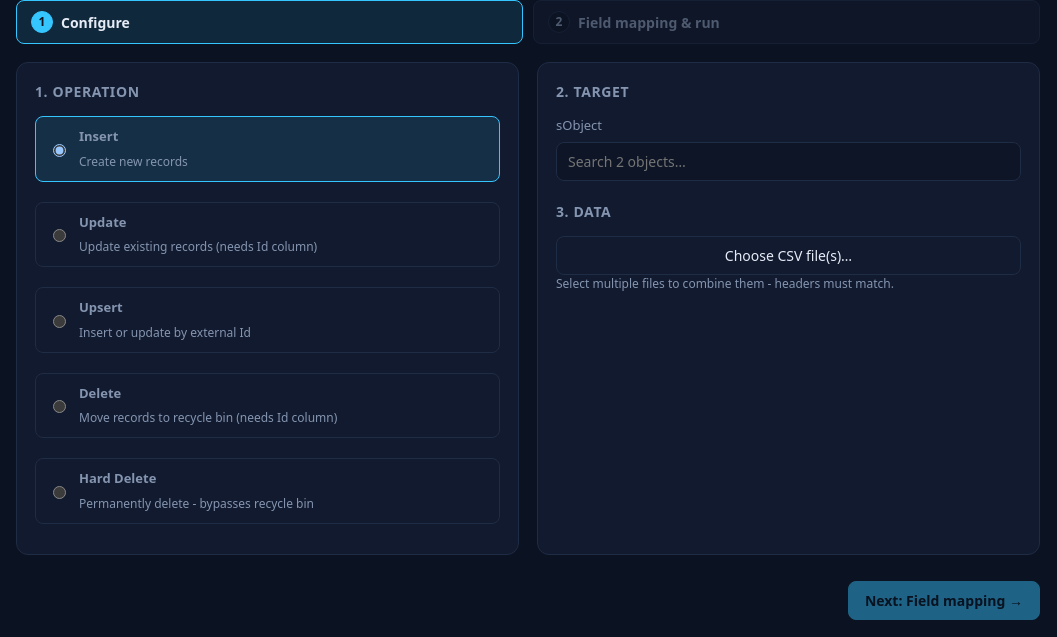
LoadPanel render › shows row/column counts after a file is chosen
Check: the field with placeholder "Search 2 objects…" is shown, box [556, 142, 1021, 180]
Click the button "Choose CSV file(s)…": (788, 255) [556, 236, 1021, 274]
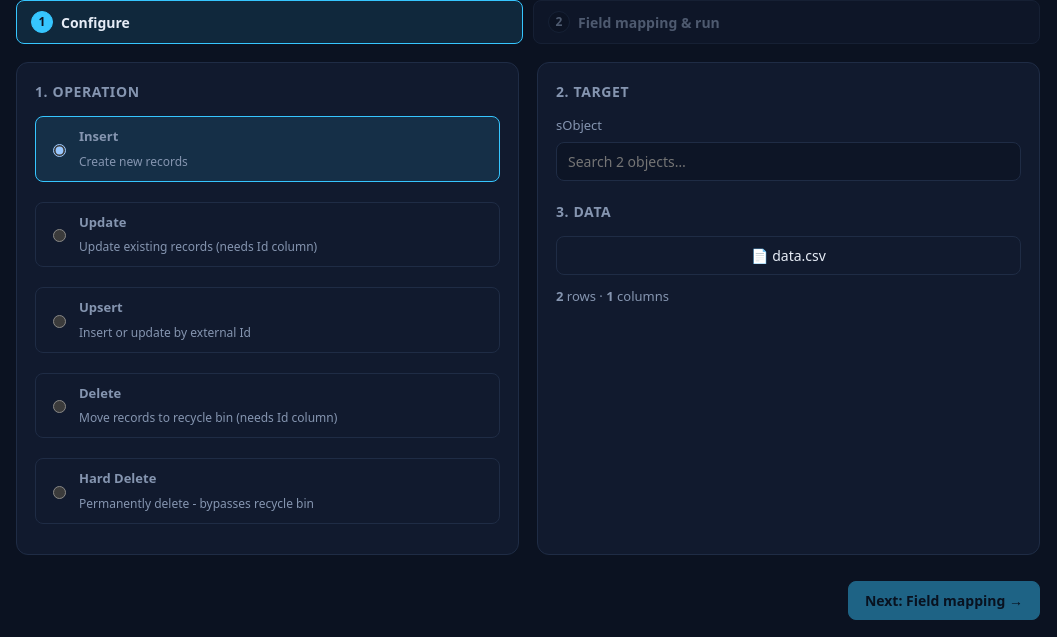
Check: the button "📄 data.csv" is shown, box [556, 236, 1021, 274]
Check: the text "2" next to "rows ·" is shown, box [556, 286, 563, 304]
